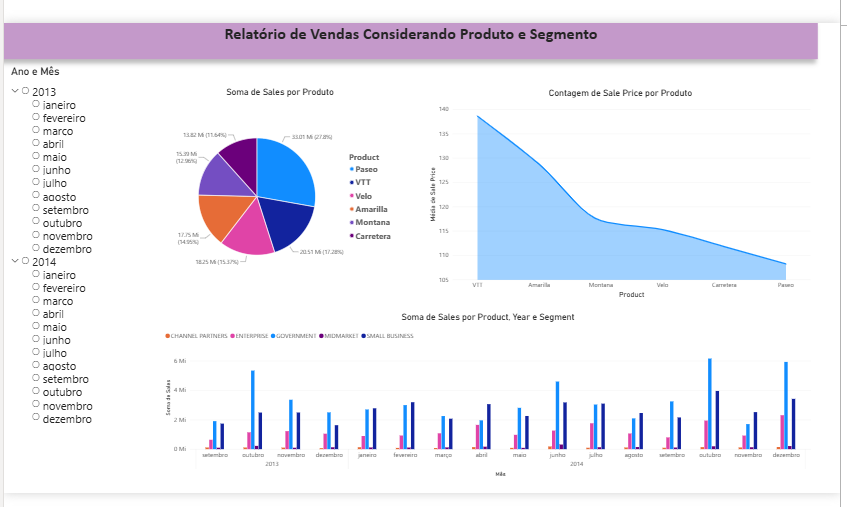

The dashboard page shown, as its layout file describes it:
{"tool":"powerbi","page":{"name":"Página 1","canvas":[1920,1080],"ordinal":0},"visuals":[{"type":"pieChart","title":"Soma de Sales por Produto","fields":{"Category":["financials.Product"],"Y":["Sum(financials.Sales)"]},"box":[353.7,133.2,560.4,493.8],"z":0},{"type":"areaChart","title":"Contagem de Sale Price por Produto","fields":{"Category":["financials.Product"],"Y":["Avg(financials.Sale Price)"]},"box":[960,133.2,909.5,516.7],"z":1000},{"type":"clusteredColumnChart","title":"Soma de Sales por Product, Year e Segment","fields":{"Y":["Sum(financials.Sales)"],"Category":["financials.Date.Variation.Hierarquia de datas.Ano","financials.Date.Variation.Hierarquia de datas.Mês"],"Series":["financials.Segment"]},"box":[353.7,650,1515.8,408.8],"z":2000},{"type":"listSlicer","fields":{"Values":["financials.Date.Variation.Hierarquia de datas.Ano","financials.Date.Variation.Hierarquia de datas.Mês"]},"box":[0,82.7,353.7,925.6],"z":3000},{"type":"textbox","box":[0,0,1869.5,82.7],"z":4000}]}

Visuals, with their boxes on the page's 1920x1080 design canvas (x1, y1, x2, y2). These are canvas units, not pixel positions in the 847x507 screenshot, which may show the page scaled, cropped or inside an application window:
"Soma de Sales por Produto" pieChart: pyautogui.locateOnScreen(354, 133, 914, 627)
"Contagem de Sale Price por Produto" areaChart: pyautogui.locateOnScreen(960, 133, 1870, 650)
"Soma de Sales por Product, Year e Segment" clusteredColumnChart: pyautogui.locateOnScreen(354, 650, 1870, 1059)
listSlicer - financials.Date.Variation.Hierarquia de datas.Ano x financials.Date.Variation.Hierarquia de datas.Mês: pyautogui.locateOnScreen(0, 83, 354, 1008)
textbox: pyautogui.locateOnScreen(0, 0, 1870, 83)
